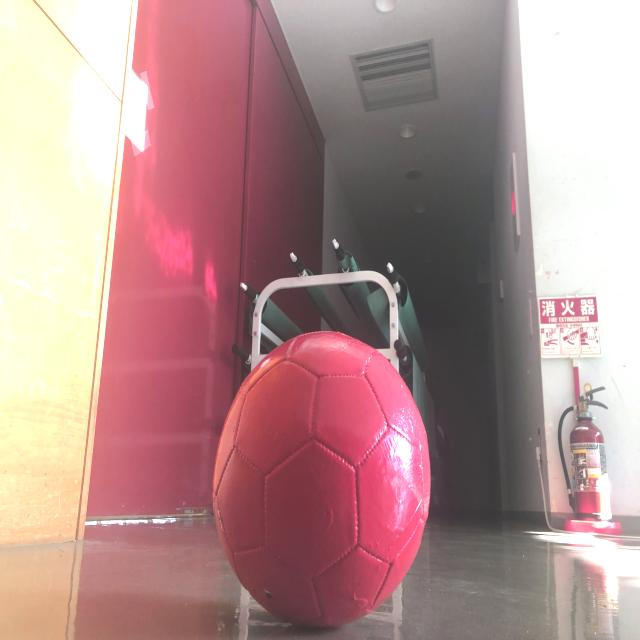red_ball: (210, 328, 432, 628)
